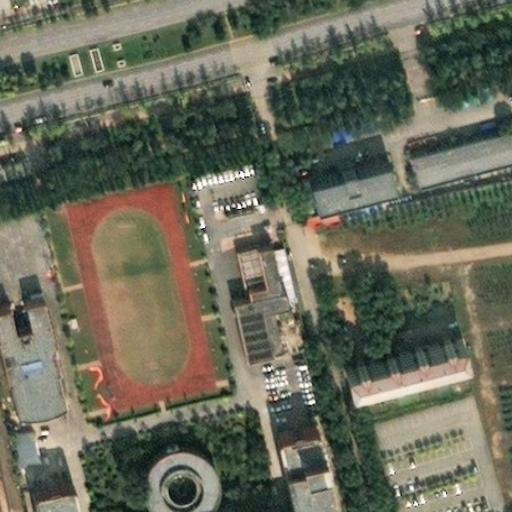building: (331, 326, 467, 384), (397, 106, 512, 169), (0, 285, 58, 399), (264, 410, 327, 512), (127, 435, 205, 512), (306, 151, 386, 195), (234, 232, 283, 303), (228, 289, 267, 348), (20, 468, 71, 512), (270, 236, 296, 295), (12, 425, 45, 471), (302, 205, 344, 234)
